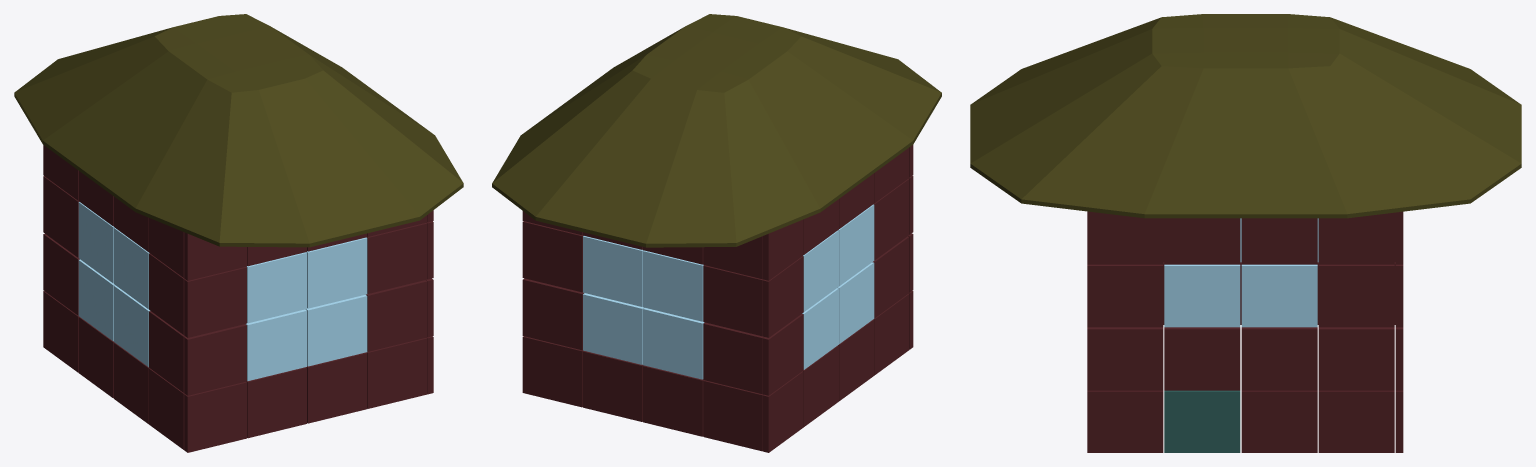
File: house03.fbx
3 renders of one model, left to right at view 1: azimuth 30°, elevation 25°; view 2: azimuth 150°, elevation 25°; view 3: azimuth 270°, elevation 25°, orthographic. The views are drawn at different scales.
Visible parts, largest first — view 1: Cube.065; view 2: Cube.065; view 3: Cube.065.
Part boxes in pixels (bbox=[...]): Cube.065: bbox=[14, 14, 463, 452]; Cube.065: bbox=[492, 14, 941, 452]; Cube.065: bbox=[970, 14, 1521, 452].
Bounding box in the file's own units: 850 × 862 × 1239.
